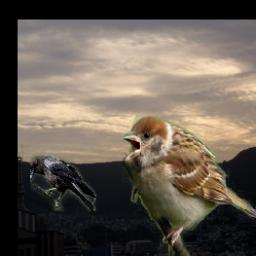Crow: (30, 155, 96, 212)
Sparrow: (122, 113, 256, 256)
